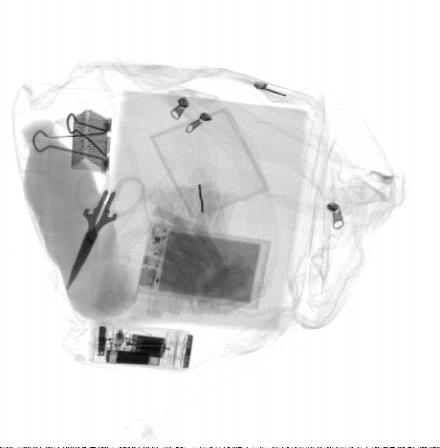Powerbank: (136, 222, 275, 309)
Scissors: (63, 167, 149, 294)
